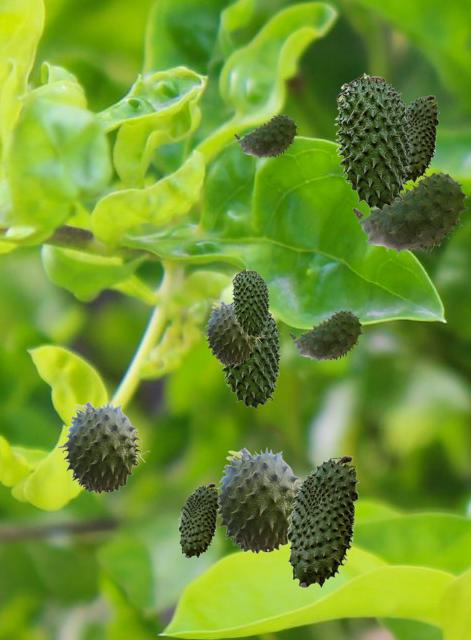guyabano: (334, 72, 412, 210), (352, 172, 467, 255), (286, 455, 358, 587), (217, 446, 301, 553), (57, 400, 149, 493), (219, 303, 281, 408), (201, 300, 264, 364), (289, 310, 362, 362), (178, 483, 218, 557), (234, 114, 297, 159), (406, 95, 438, 182), (231, 268, 269, 336)
